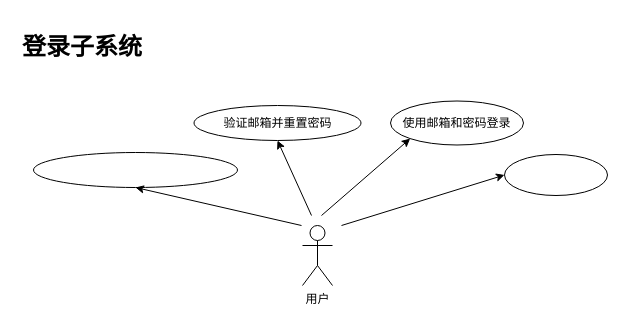
This 625x324 diagram has some shape labels left out. The shapes that lost their labels are listed below. From the top down, each one's centre as x and y in pixels, then its label:
At point (135, 170): "使用邮箱地址获取重置密码验证码".
At point (556, 175): "退出登录".
